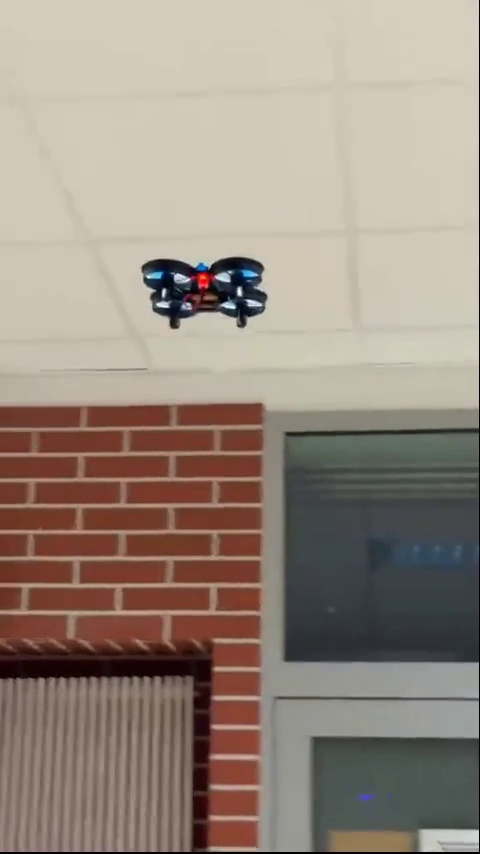drone: (140, 253, 269, 335)
